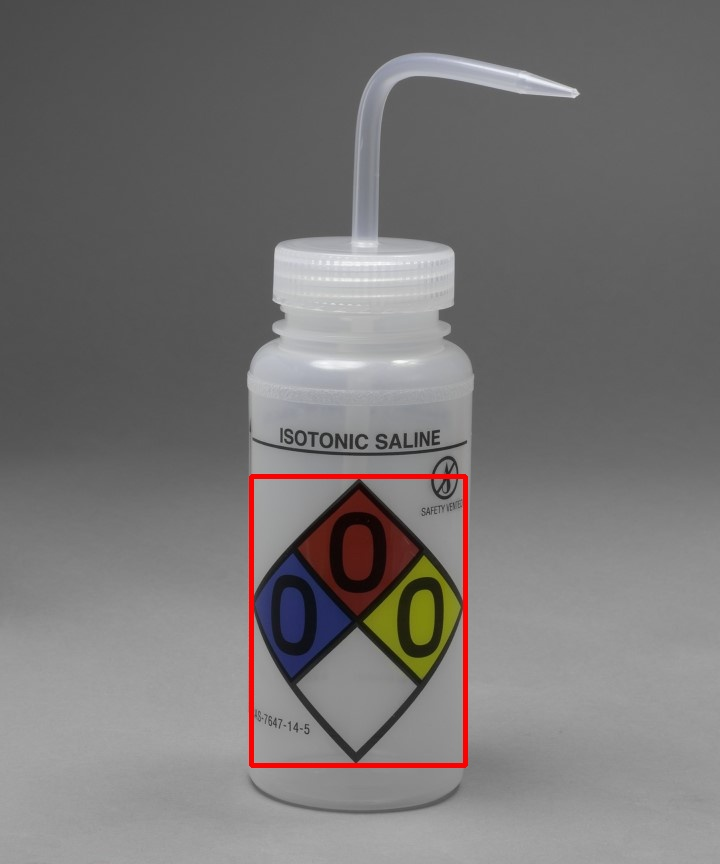nfpa: (251, 476, 465, 765)
